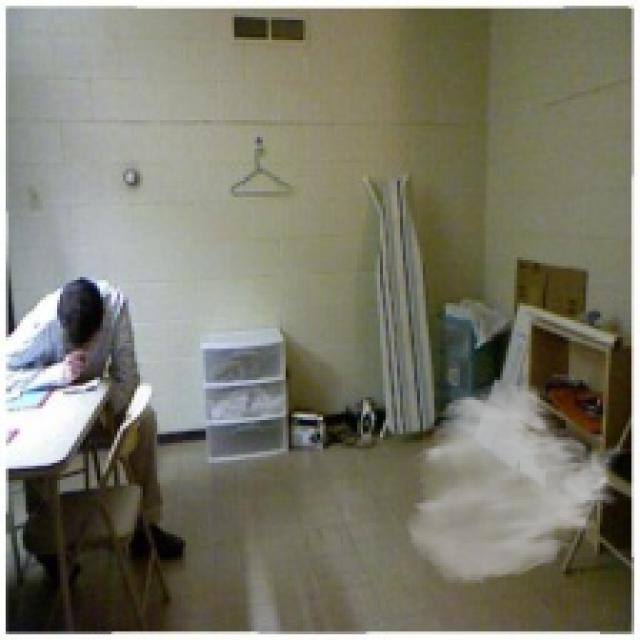smoke: (403, 380, 626, 586)
